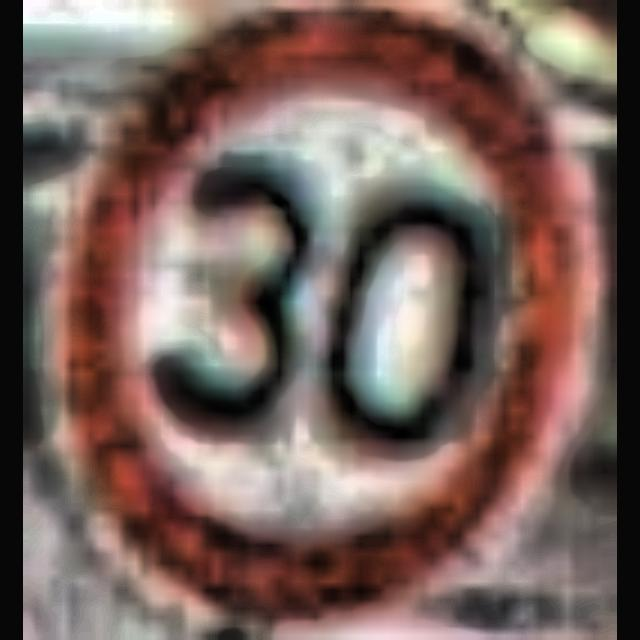speed_30: (58, 18, 578, 614)
